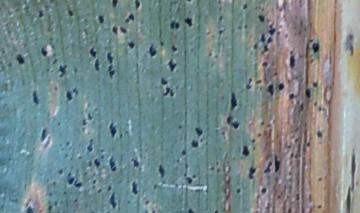tarspot: (225, 113, 241, 132), (159, 84, 176, 100), (166, 16, 183, 31), (165, 56, 179, 74), (273, 152, 283, 176), (30, 86, 40, 109), (228, 90, 238, 113), (106, 154, 118, 173), (14, 51, 28, 67), (107, 120, 119, 138), (183, 12, 195, 30), (105, 63, 118, 79), (56, 63, 69, 79), (83, 137, 96, 153), (128, 180, 140, 197), (246, 165, 258, 181), (108, 192, 119, 209), (129, 155, 142, 169), (147, 41, 157, 59), (287, 54, 298, 70), (156, 162, 166, 179), (310, 39, 321, 54), (64, 88, 74, 104), (39, 126, 49, 142), (262, 159, 272, 175), (255, 12, 268, 24), (65, 172, 76, 186), (92, 57, 101, 74), (240, 143, 250, 158), (265, 80, 275, 95), (104, 51, 115, 64), (193, 125, 204, 138), (39, 45, 49, 59), (93, 155, 101, 172), (183, 173, 195, 184), (126, 39, 137, 51), (65, 7, 76, 19), (232, 185, 244, 196), (302, 87, 314, 98), (88, 45, 98, 58), (108, 1, 121, 11), (123, 13, 136, 23), (259, 184, 268, 198), (132, 1, 143, 12), (243, 81, 254, 92), (189, 138, 201, 148), (35, 8, 45, 20), (314, 130, 326, 140), (258, 32, 268, 44), (157, 77, 170, 86), (24, 204, 37, 213), (276, 79, 284, 93), (96, 13, 106, 24), (287, 90, 297, 101), (261, 58, 270, 70), (171, 43, 179, 56), (109, 25, 119, 35), (119, 25, 129, 35), (266, 26, 276, 36), (180, 147, 189, 158), (241, 2, 250, 13), (266, 34, 275, 44), (58, 166, 66, 177), (186, 205, 196, 213), (76, 182, 84, 191), (263, 45, 271, 54)
